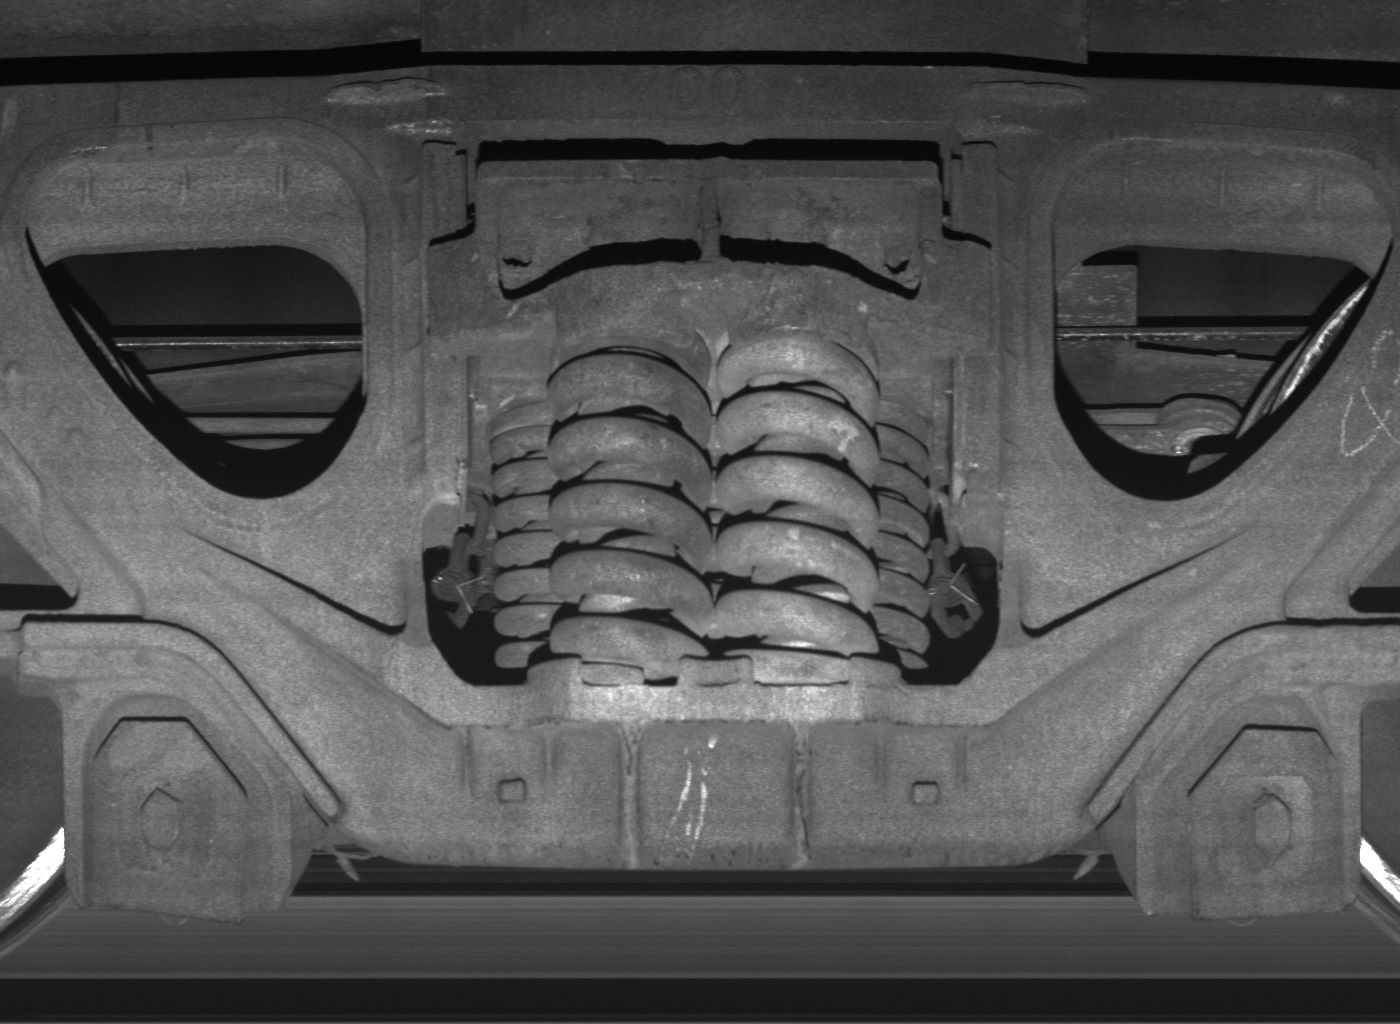Locking plate: (64, 682, 291, 925)
normal: (1137, 690, 1364, 921)
